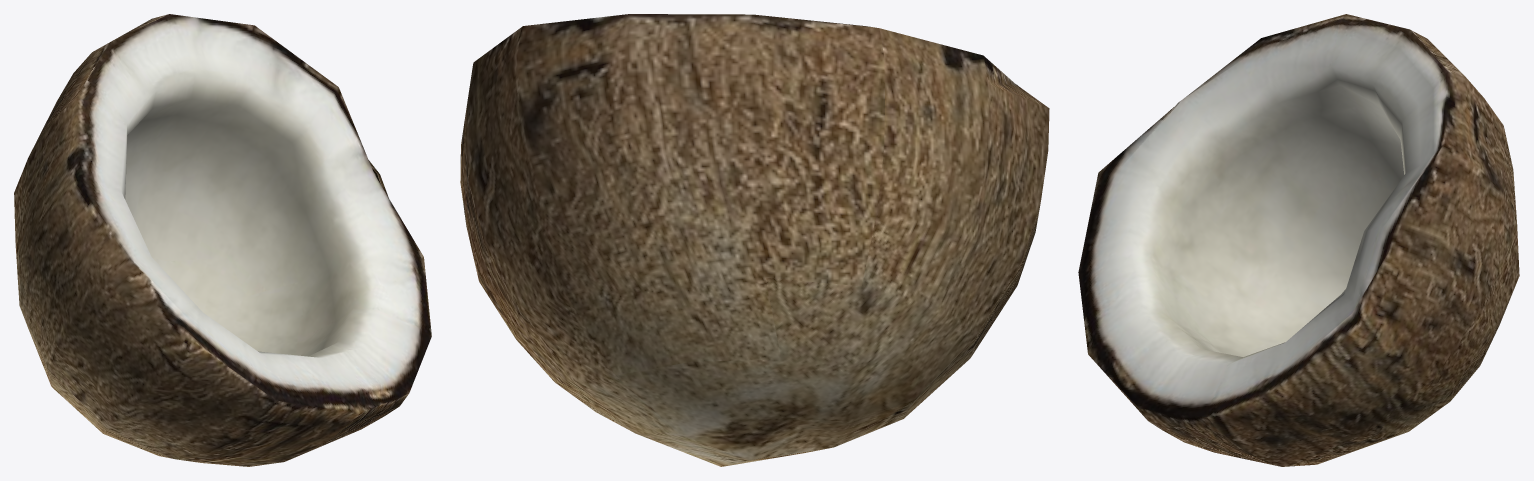
The model's file is A116_Coconut_low.fbx.
3 renders of one model, left to right at view 1: azimuth 30°, elevation 25°; view 2: azimuth 150°, elevation 25°; view 3: azimuth 270°, elevation 25°, orthographic. The views are drawn at different scales.
Visible parts, largest first — view 1: A116_Coconut_low; view 2: A116_Coconut_low; view 3: A116_Coconut_low.
Boxes of the visible parts, x1=… form: A116_Coconut_low: x1=14, y1=14, x2=431, y2=466; A116_Coconut_low: x1=460, y1=14, x2=1049, y2=466; A116_Coconut_low: x1=1078, y1=14, x2=1519, y2=466.
Bounding box in the file's own units: 11.06 × 10.96 × 10.44.
Materials: 1 (1 with a texture image).
